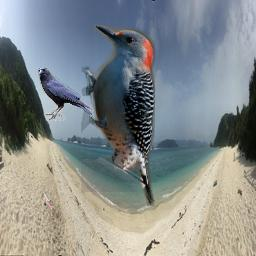Crow: (37, 67, 94, 121)
Woodpecker: (81, 21, 155, 206)
